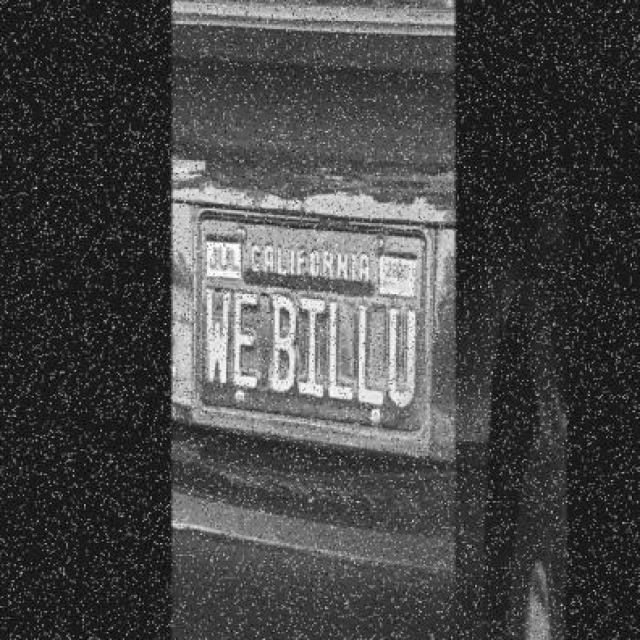licenseplate: (196, 206, 439, 452)
